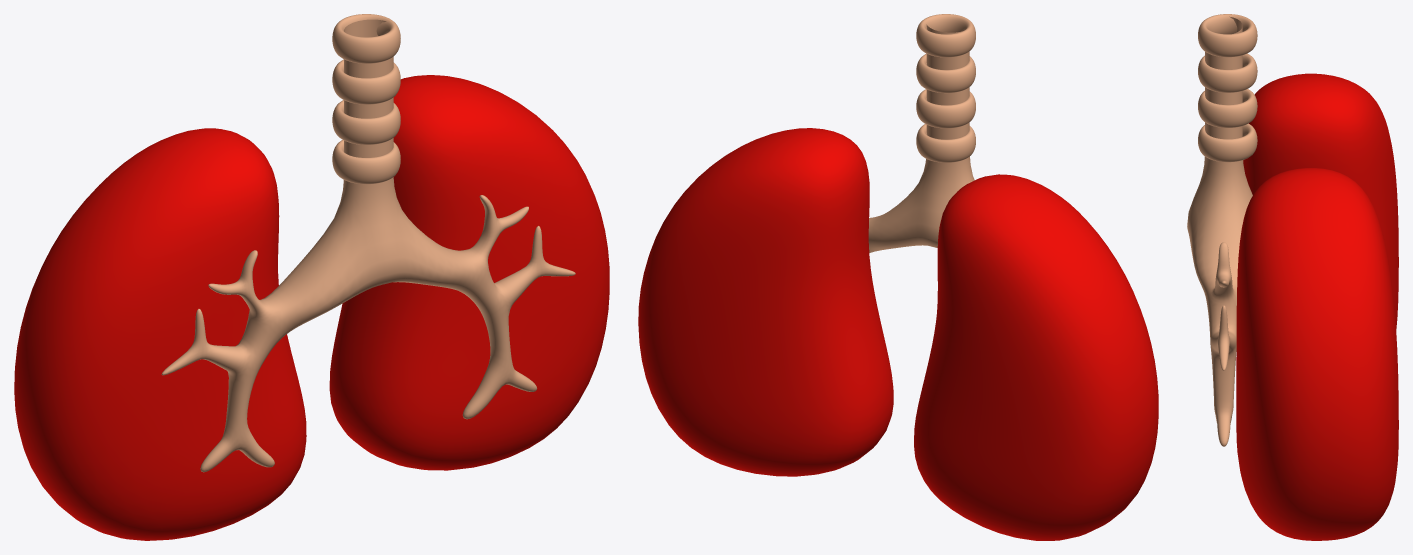
The model's file is Lung.glb.
The picture shows the model from 3 angles, left to right: view 1: azimuth 30°, elevation 25°; view 2: azimuth 150°, elevation 25°; view 3: azimuth 270°, elevation 25°; orthographic projection. The views are drawn at different scales.
Parts seen in each view (by area): view 1: Cube.013, Cube.014, Torus; view 2: Cube.013, Cube.014, Torus; view 3: Cube.013, Cube.014, Torus.
Part boxes in pixels (x1,y1,x2,y2): Cube.013: (14,75,609,540); Cube.014: (161,19,575,472); Torus: (332,14,400,184); Cube.013: (638,128,1158,540); Cube.014: (868,24,974,252); Torus: (916,14,975,162); Cube.013: (1236,73,1398,540); Cube.014: (1187,16,1252,446); Torus: (1198,14,1257,162).
Size of the model in its own units: 5.72 by 4.81 by 2.11.
